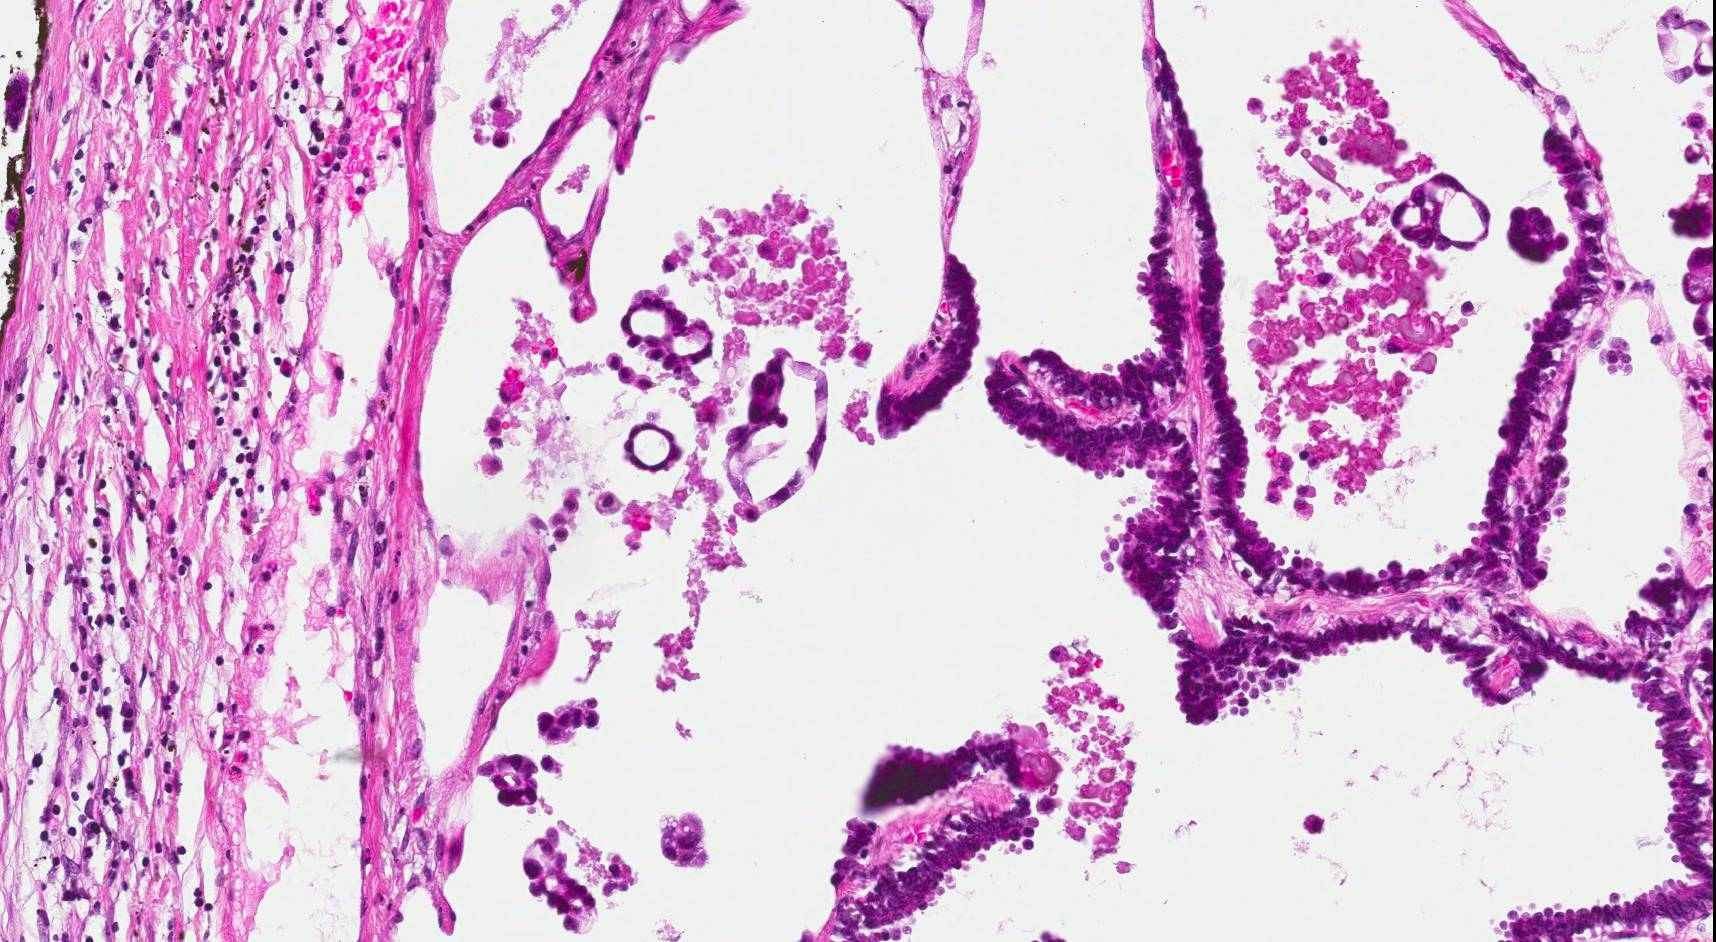stas: (721, 350, 833, 524), (606, 288, 713, 389), (1390, 169, 1496, 257), (521, 822, 602, 936), (1508, 198, 1571, 268), (653, 811, 718, 876), (476, 747, 544, 810), (536, 693, 605, 747), (623, 422, 684, 472)
